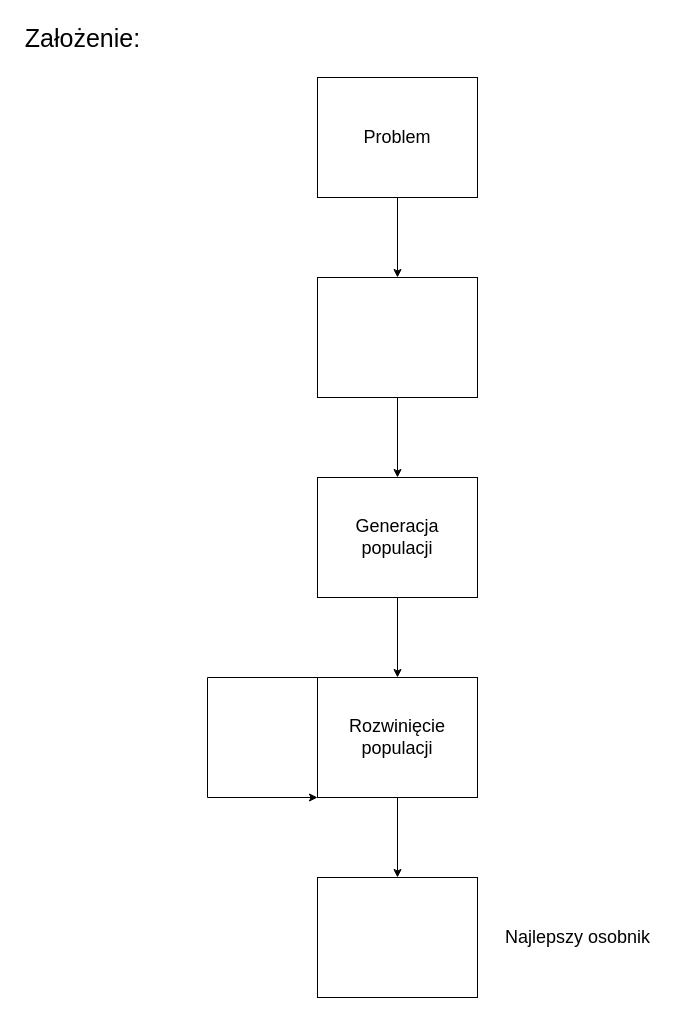
This 674x1015 diagram has some shape labels left out. The box of each missing label's shape, as (x1, y1, x2, y2) in pixels:
Kodowanie: (316, 276, 478, 398)
Wynik: (316, 876, 478, 998)
